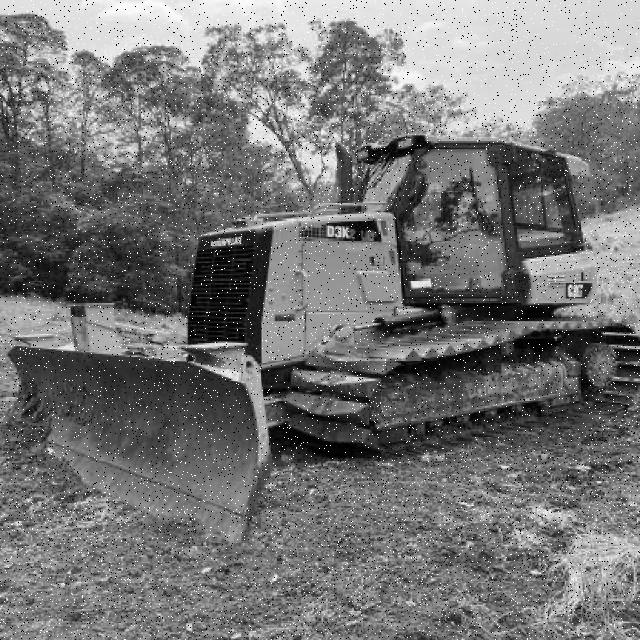Construction Equipment: (7, 134, 640, 546)
